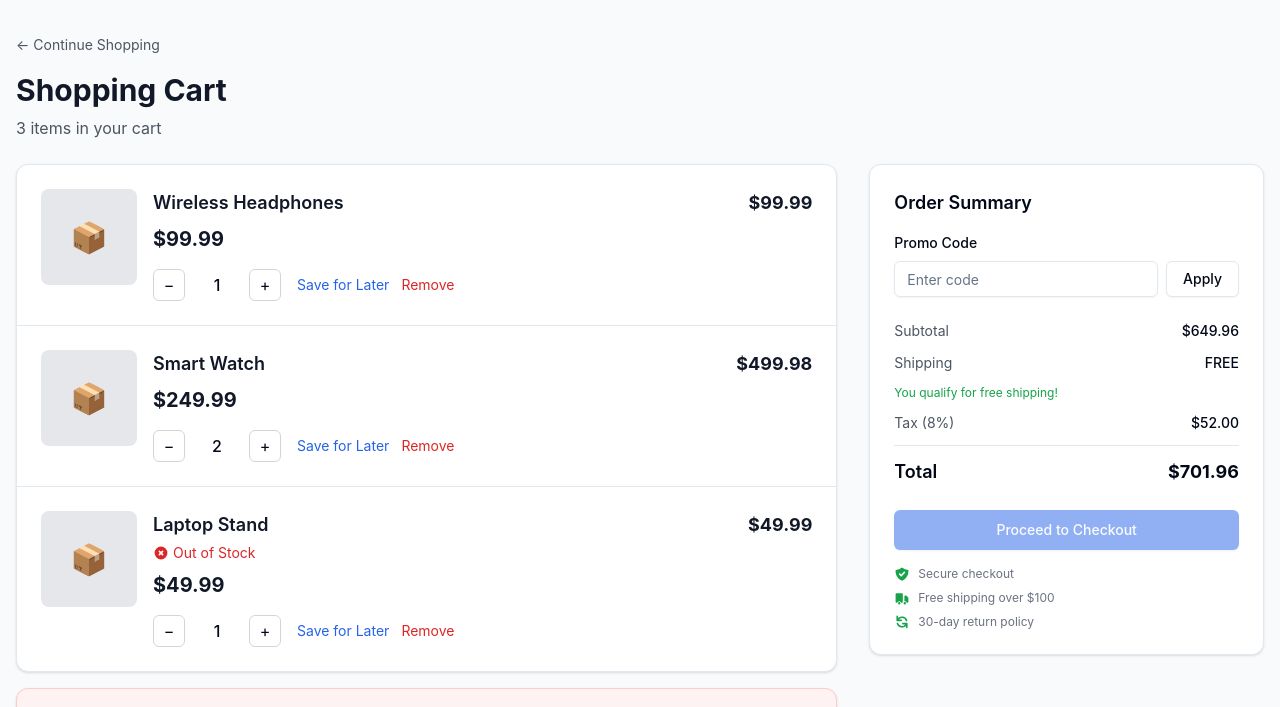
Test case: CartPage - Save for Later › should move item to saved for later when button is clicked
The image size is (1280, 707).
Step 1. Click the button with test id "save-for-later-1" → coordinates (343, 285), box 297,275 -> 389,295
(page scrolled)
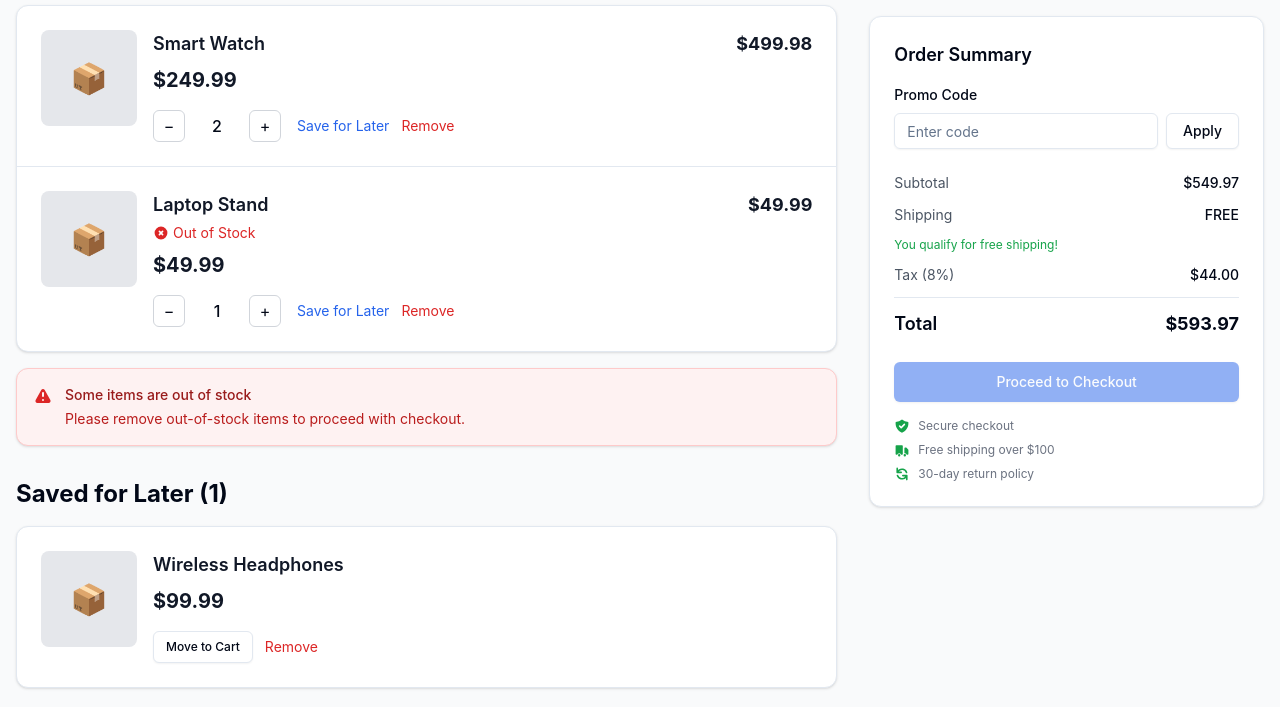
Expected: the text "Wireless Headphones" is shown, 153,554 -> 344,575
Expected: the element with test id "saved-for-later-section" is shown, 16,478 -> 837,688
Expected: the heading "Saved for Later (1)" is shown, 16,479 -> 228,508
